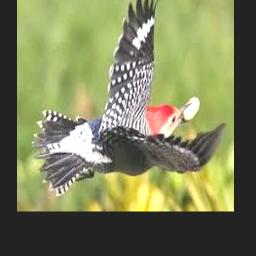Woodpecker: (31, 0, 226, 196)
